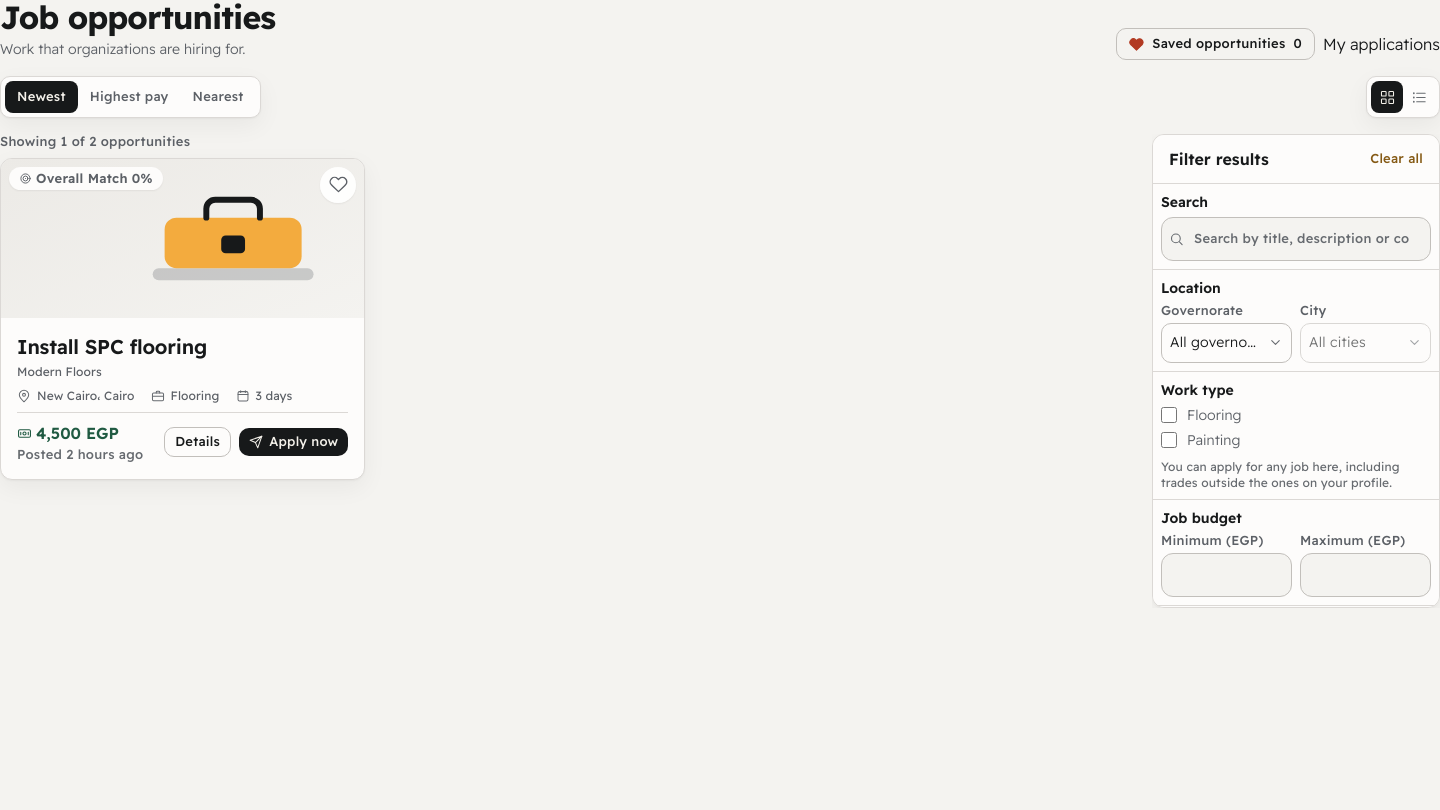
Test case: production Jobs board — one approved presentation, only real capabilities › Overall Match — the canonical database breakdown, drawn and never recomputed › 0% is named 'Low match' in its breakdown
The width and height of the screenshot is (1440, 810).
Click the button with test id "match-badge".
click(86, 179)  # box [9, 167, 163, 190]
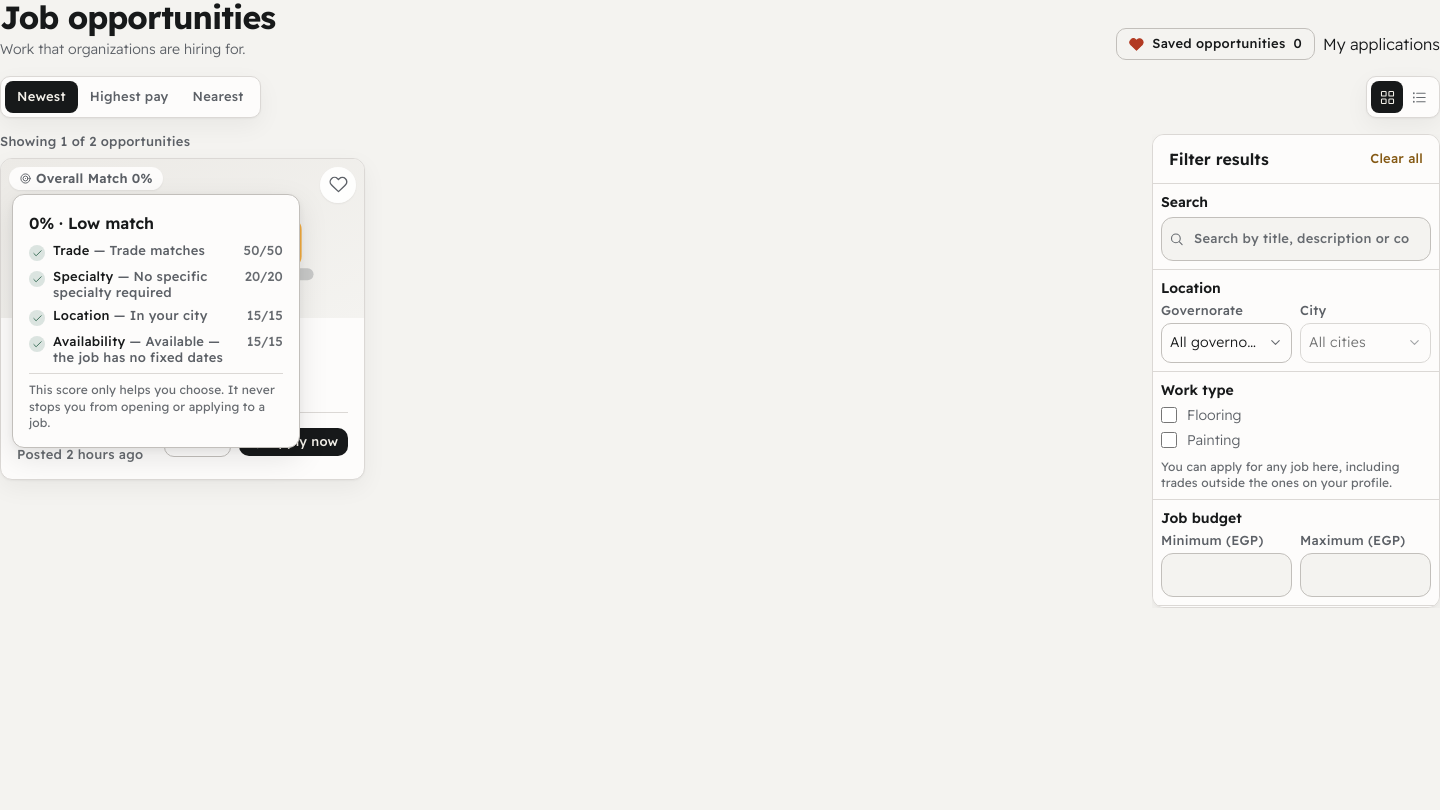
Now the text "0% · Low match" is shown, box [29, 213, 154, 233]
